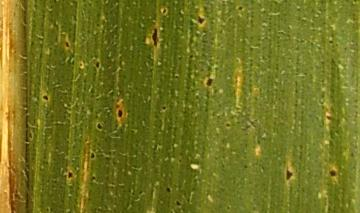tarspot: (150, 23, 162, 53), (201, 74, 218, 89), (283, 167, 296, 183), (325, 167, 341, 180), (64, 167, 77, 182), (40, 91, 52, 104), (221, 119, 234, 131), (172, 198, 186, 209), (195, 13, 205, 28), (62, 39, 74, 51), (235, 2, 247, 14), (95, 119, 104, 134), (115, 107, 125, 120), (89, 148, 97, 163), (92, 58, 102, 70), (159, 102, 169, 113), (164, 184, 172, 195)
